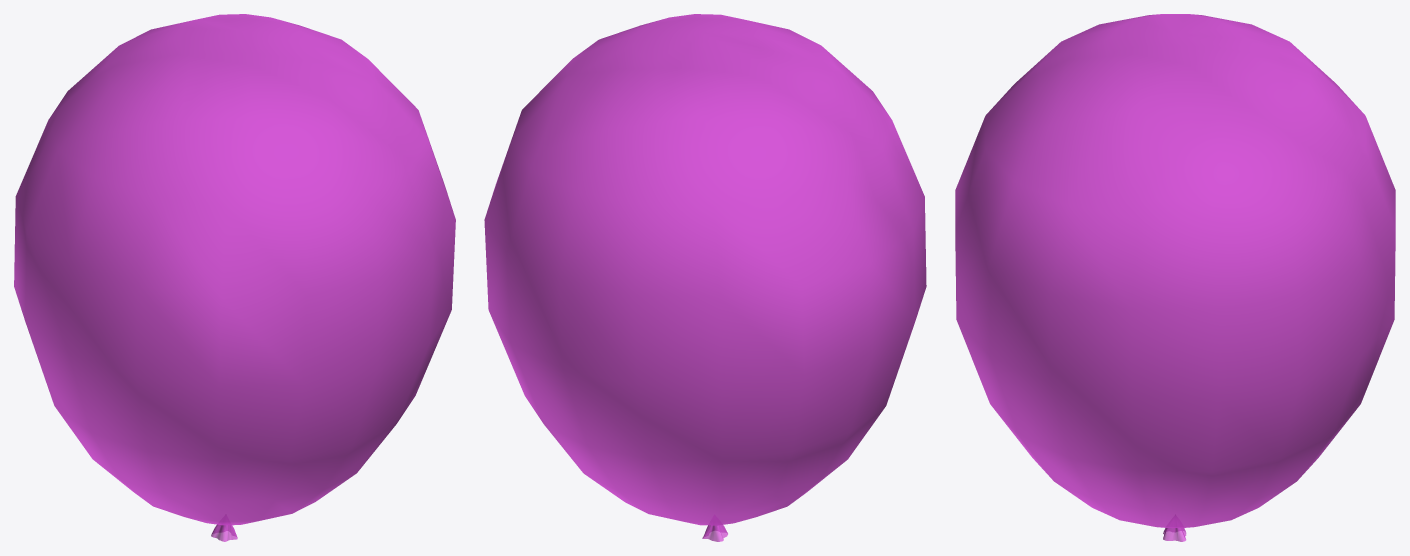
Rendered from belloon.fbx.
3 renders of one model, left to right at view 1: azimuth 30°, elevation 25°; view 2: azimuth 150°, elevation 25°; view 3: azimuth 270°, elevation 25°, orthographic.
Parts seen in each view (by area): view 1: Sphere.004; view 2: Sphere.004; view 3: Sphere.004.
Boxes of the visible parts, x1,y1,x2,y2 form: Sphere.004: [14, 14, 455, 541]; Sphere.004: [484, 14, 926, 541]; Sphere.004: [955, 14, 1395, 541].
Bounding box in the file's own units: 25.85 × 32.96 × 25.74.
